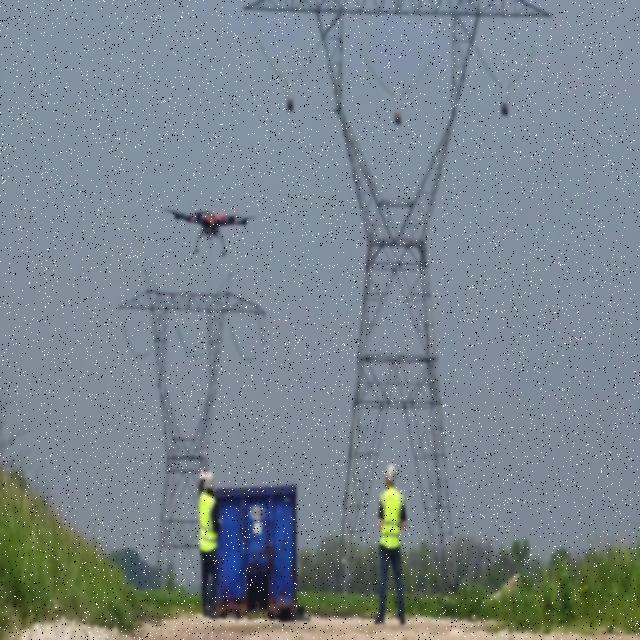UAV: (162, 208, 256, 257)
